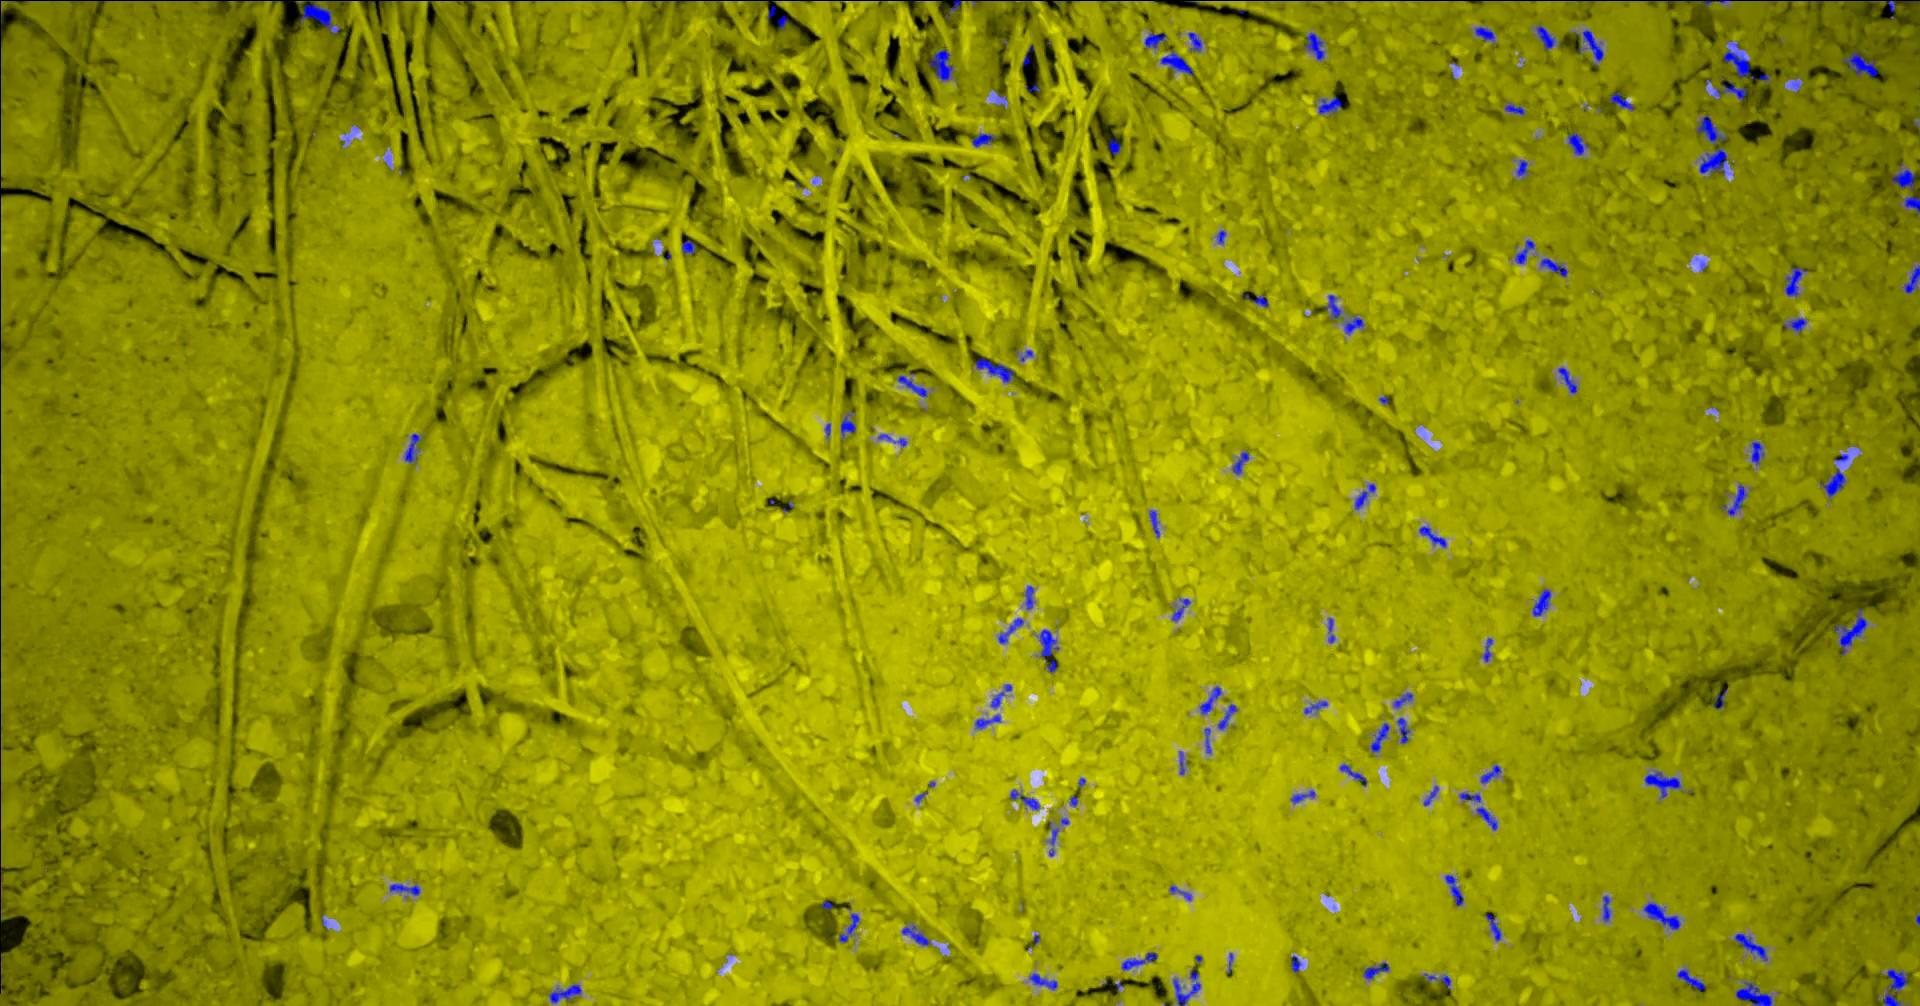ant: (1722, 39, 1769, 84), (1832, 607, 1867, 655), (298, 0, 340, 33), (1843, 0, 1919, 18), (1876, 968, 1907, 1005), (975, 356, 1015, 382), (1642, 902, 1680, 929), (1172, 969, 1200, 1005), (1843, 51, 1878, 77), (1644, 770, 1680, 796), (1577, 29, 1603, 65), (1735, 981, 1771, 1005), (1719, 483, 1747, 514), (1735, 934, 1768, 960), (1695, 116, 1726, 144), (1699, 147, 1730, 175), (1039, 629, 1058, 673), (1710, 77, 1746, 100), (928, 48, 952, 80), (1161, 50, 1192, 74), (1818, 467, 1845, 495), (549, 983, 582, 1005), (1891, 163, 1915, 191), (1784, 267, 1807, 296), (897, 375, 927, 396), (998, 617, 1023, 643), (1418, 525, 1446, 547), (1199, 686, 1222, 714), (1338, 763, 1366, 786), (1121, 951, 1157, 969), (1010, 789, 1039, 810), (1676, 968, 1705, 989), (902, 923, 930, 945), (1535, 25, 1559, 50), (1370, 721, 1389, 752), (1444, 874, 1463, 904), (1354, 483, 1375, 509), (1304, 32, 1324, 60), (838, 913, 858, 941), (1217, 702, 1237, 729), (1539, 257, 1567, 276), (404, 433, 422, 462), (1531, 589, 1550, 616), (1029, 972, 1057, 989), (1567, 132, 1589, 155), (1476, 807, 1497, 829), (1514, 239, 1534, 263), (1321, 293, 1341, 318), (990, 683, 1011, 708), (1609, 91, 1634, 111), (1557, 367, 1576, 392), (1902, 264, 1919, 293), (1484, 913, 1501, 941), (1363, 962, 1389, 978), (1171, 598, 1190, 621), (1663, 0, 1730, 6), (1317, 97, 1342, 113), (1230, 451, 1248, 474), (1423, 973, 1450, 988), (389, 883, 419, 895), (1341, 316, 1363, 334), (1396, 716, 1410, 743), (971, 132, 996, 147), (1481, 763, 1500, 782), (1048, 821, 1058, 856), (841, 412, 855, 437), (974, 714, 999, 728), (1290, 789, 1314, 803), (1144, 32, 1164, 48), (1170, 885, 1191, 901), (1783, 318, 1806, 332), (1148, 509, 1159, 537), (943, 0, 961, 18), (1474, 25, 1495, 41), (1392, 692, 1412, 708), (1303, 700, 1327, 713), (1903, 196, 1919, 215), (1750, 441, 1763, 464), (1713, 687, 1727, 708), (1423, 785, 1437, 805), (1187, 32, 1201, 51), (1482, 636, 1492, 661), (1023, 586, 1034, 608), (681, 239, 695, 254), (1109, 137, 1121, 154), (1252, 295, 1269, 307), (1503, 104, 1524, 114), (1204, 727, 1211, 753), (1458, 793, 1481, 801), (764, 0, 775, 19), (1603, 895, 1610, 921), (1516, 159, 1528, 175), (1290, 955, 1302, 972), (1327, 617, 1335, 641), (776, 14, 787, 29)
